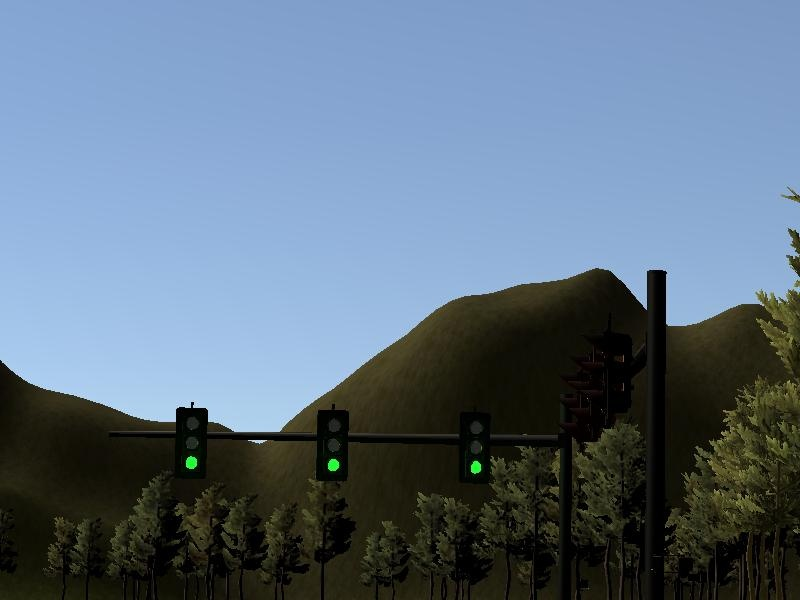GREEN: (174, 407, 206, 478), (316, 410, 348, 481), (460, 411, 492, 482)
